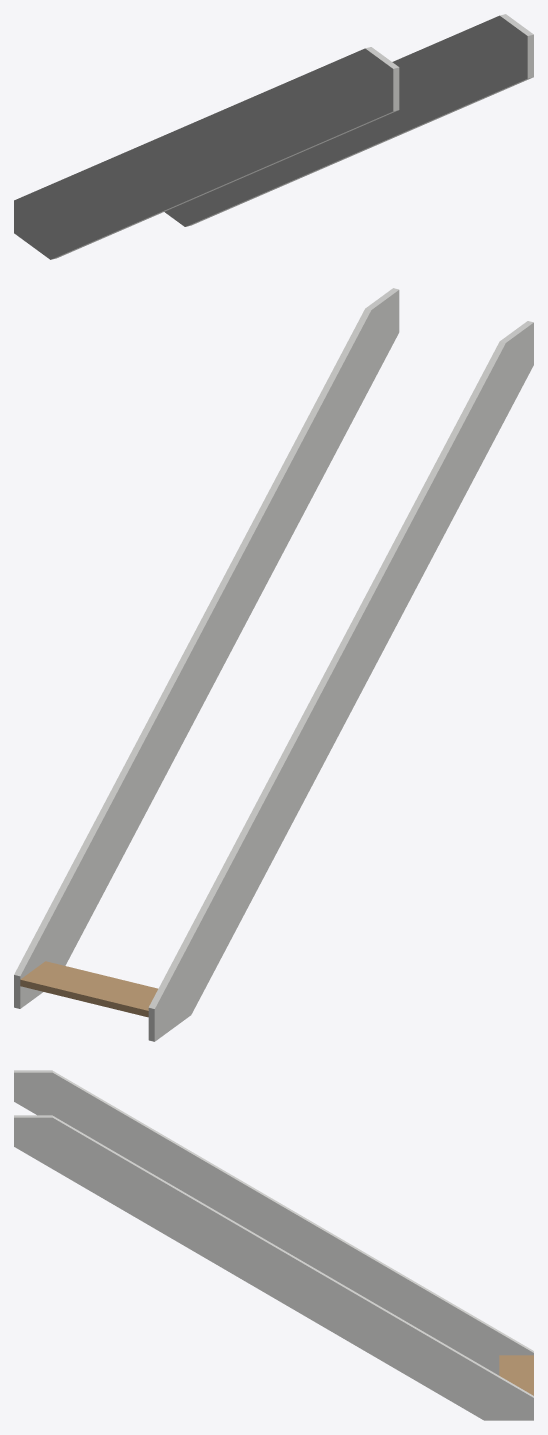
The picture shows the model from 3 angles, top to bottom: view 1: azimuth 30°, elevation 25°; view 2: azimuth 150°, elevation 25°; view 3: azimuth 270°, elevation 25°; orthographic projection. The views are drawn at different scales.
Visible parts, largest first — view 1: StringerLeft, StringerRight; view 2: StringerLeft, StringerRight, Step; view 3: StringerRight, StringerLeft, Step.
Boxes of the visible parts, x1,y1,x2,y2 form: StringerLeft: (14,47,399,259); StringerRight: (164,14,533,226); StringerLeft: (148,321,533,1041); StringerRight: (14,288,399,1008); Step: (20,961,157,1017); StringerRight: (14,1115,533,1420); StringerLeft: (14,1070,533,1375); Step: (499,1355,533,1395).
Bounding box in the file's own units: 0.9 × 2.7 × 4.2.
